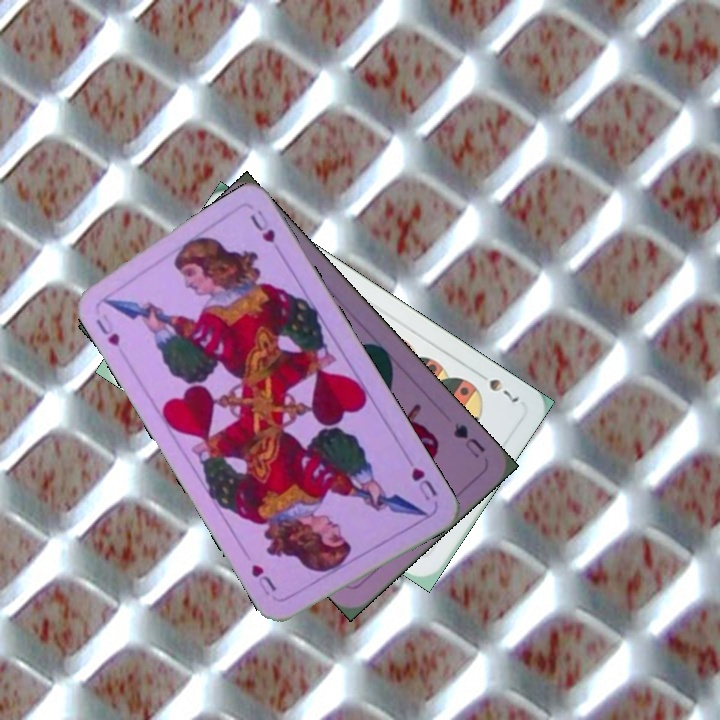GU: (449, 419, 488, 461)
HU: (407, 463, 440, 503), (91, 308, 123, 349)
S7: (484, 374, 522, 405)
